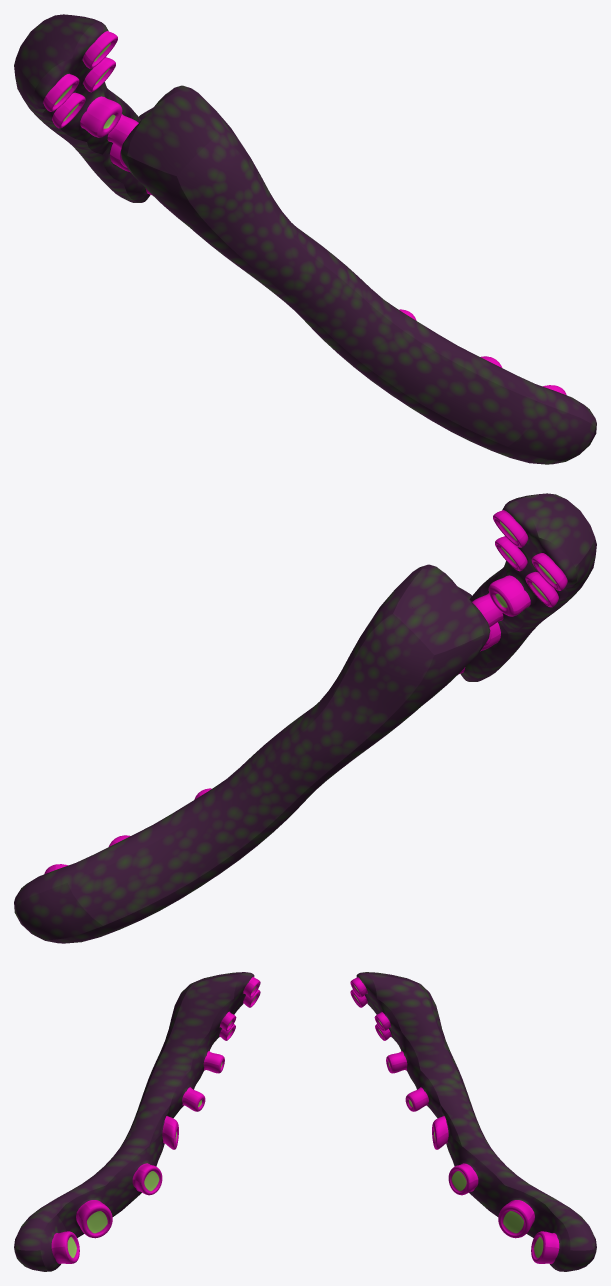
The model's file is ahtakolarm.fbx.
3 renders of one model, top to bottom at view 1: azimuth 30°, elevation 25°; view 2: azimuth 150°, elevation 25°; view 3: azimuth 270°, elevation 25°, orthographic. The views are drawn at different scales.
Visible parts, largest first — view 1: Cube.008; view 2: Cube.008; view 3: Cube.008.
Boxes of the visible parts, x1,y1,x2,y2 form: Cube.008: [14, 14, 596, 464]; Cube.008: [14, 493, 596, 943]; Cube.008: [14, 972, 596, 1271].
Size of the model in its own units: 127 by 124 by 295.
Materials: 3 (1 with a texture image).
